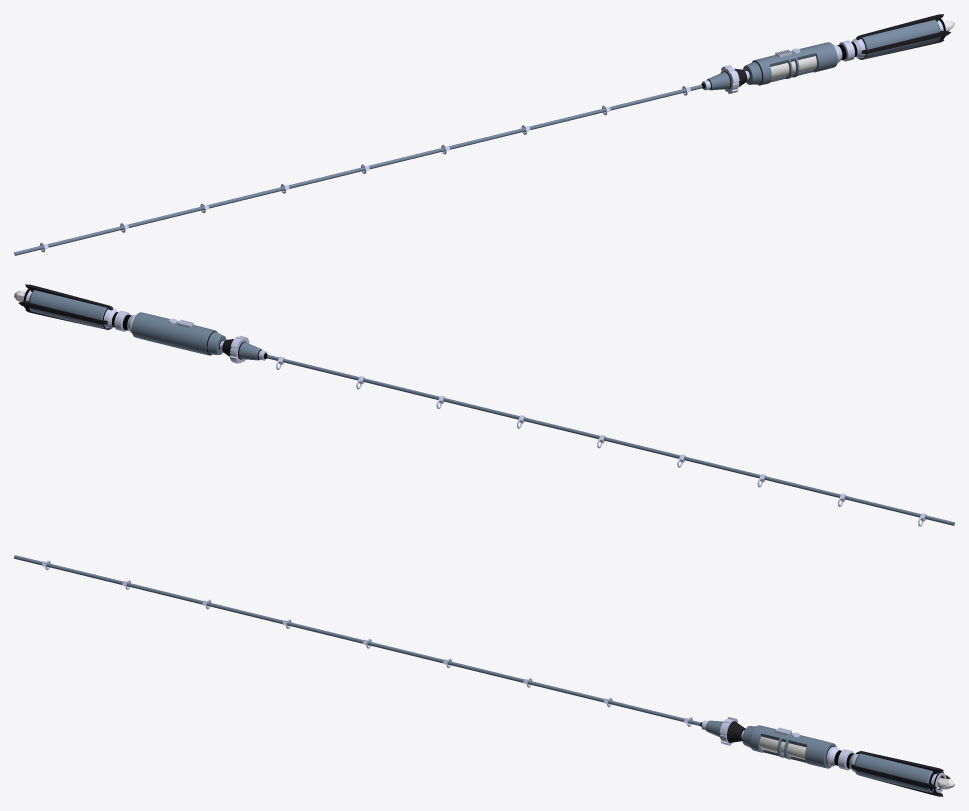
The model's file is FishingRodExport01.fbx.
The picture shows the model from 3 angles, top to bottom: view 1: azimuth 30°, elevation 25°; view 2: azimuth 150°, elevation 25°; view 3: azimuth 330°, elevation 25°; orthographic projection.
Visible parts, largest first — view 1: 14, Cylinder.001, 3, 2, 7; view 2: 14, Cylinder.001, 3, 2, Torus; view 3: 14, Cylinder.001, 3, 2, 7.
Boxes of the visible parts, <box> form: 14: <box>14,84,702,255</box>; Cylinder.001: <box>752,42,837,85</box>; 3: <box>856,19,940,59</box>; 2: <box>856,14,950,59</box>; 7: <box>770,56,816,79</box>; 14: <box>266,355,954,525</box>; Cylinder.001: <box>131,312,217,355</box>; 3: <box>29,290,112,329</box>; 2: <box>18,284,112,329</box>; Torus: <box>276,356,926,526</box>; 14: <box>14,555,700,725</box>; Cylinder.001: <box>750,725,836,768</box>; 3: <box>855,753,938,792</box>; 2: <box>851,751,950,796</box>; 7: <box>760,736,806,759</box>.
Size of the model in its own units: 3462 by 95.61 by 92.77.
